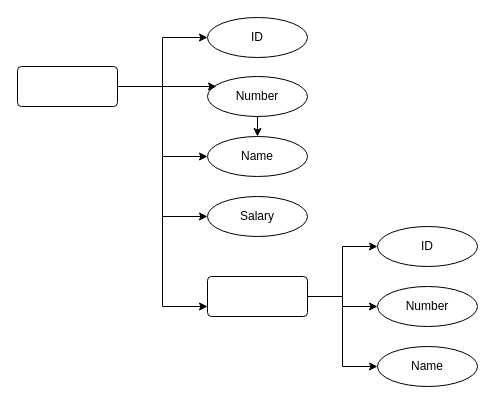
Some shapes in this 495 by 404 pixel diagram are drawn without their labels. The shapes that lost their labels are listed below. From the top down, each one's centre as x and y in pixels, then its label:
At point (67, 86): "Employee".
At point (257, 296): "Departrment".
